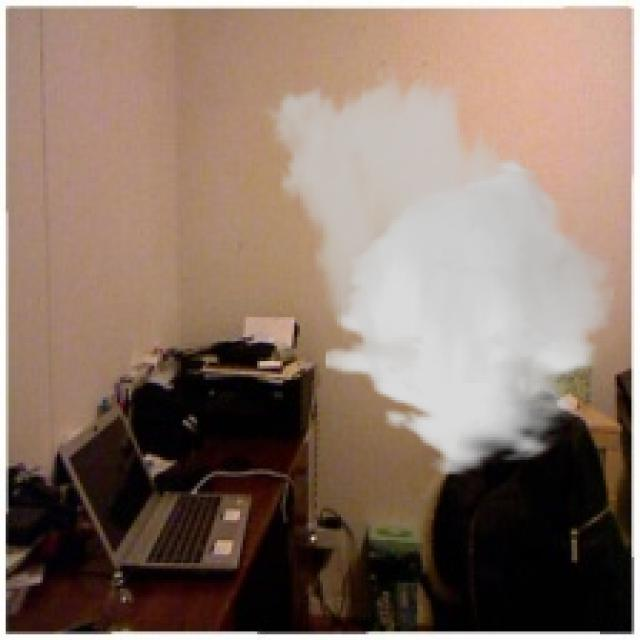smoke: (257, 63, 614, 477)
